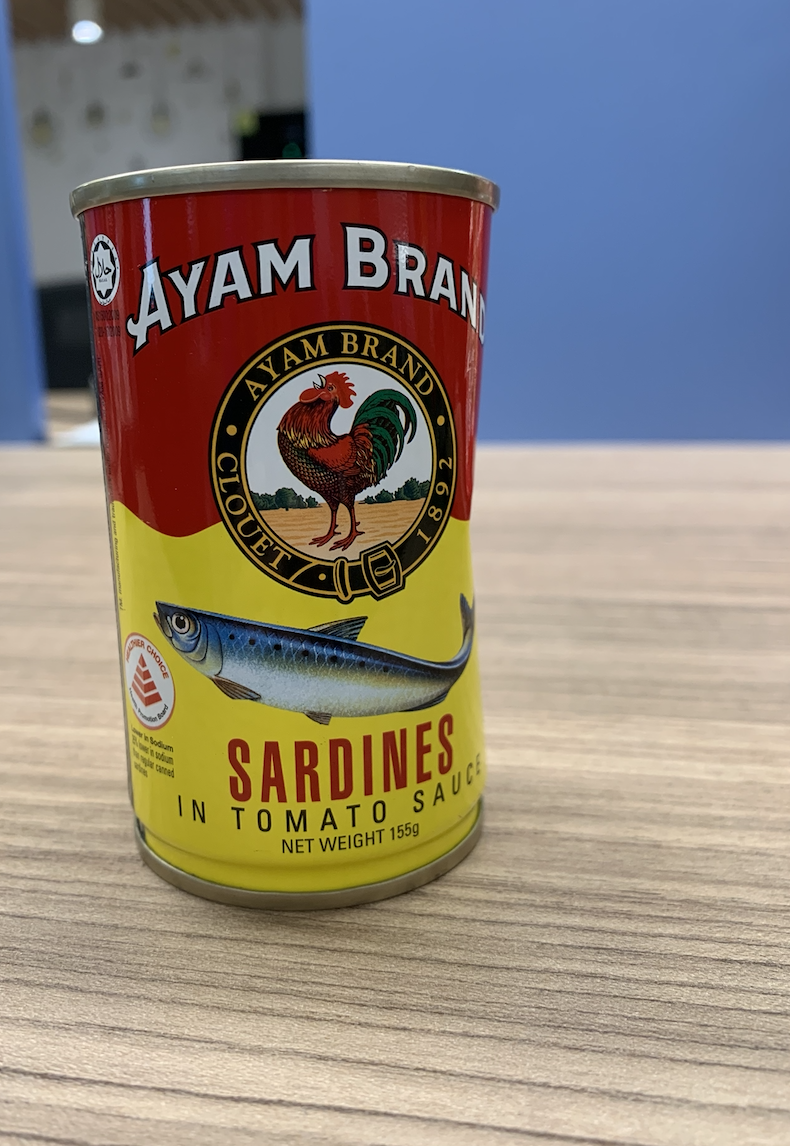sardines_100g-199g: (97, 219, 481, 855)
